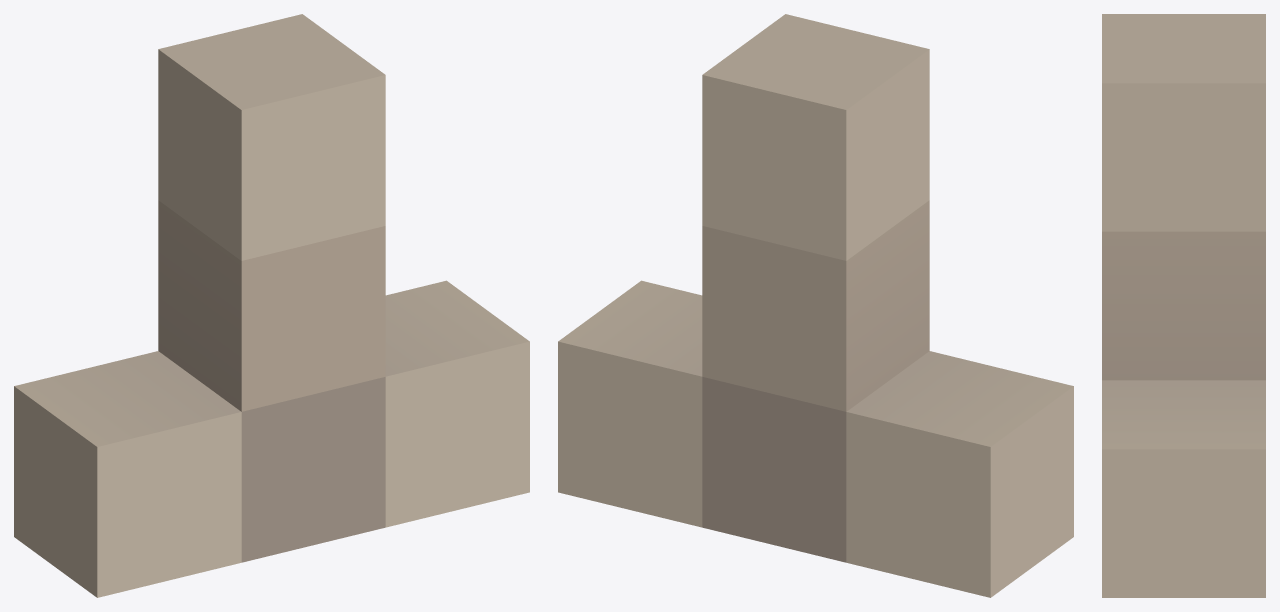
Rendered from decor_rock_b.glb.
3 renders of one model, left to right at view 1: azimuth 30°, elevation 25°; view 2: azimuth 150°, elevation 25°; view 3: azimuth 270°, elevation 25°, orthographic.
Parts seen in each view (by area): view 1: decor_rock_b; view 2: decor_rock_b; view 3: decor_rock_b.
Part boxes in pixels (<box>): decor_rock_b: <box>14,14,529,597</box>; decor_rock_b: <box>558,14,1073,597</box>; decor_rock_b: <box>1102,14,1265,597</box>.
Size of the model in its own units: 0.375 by 0.375 by 0.125.
